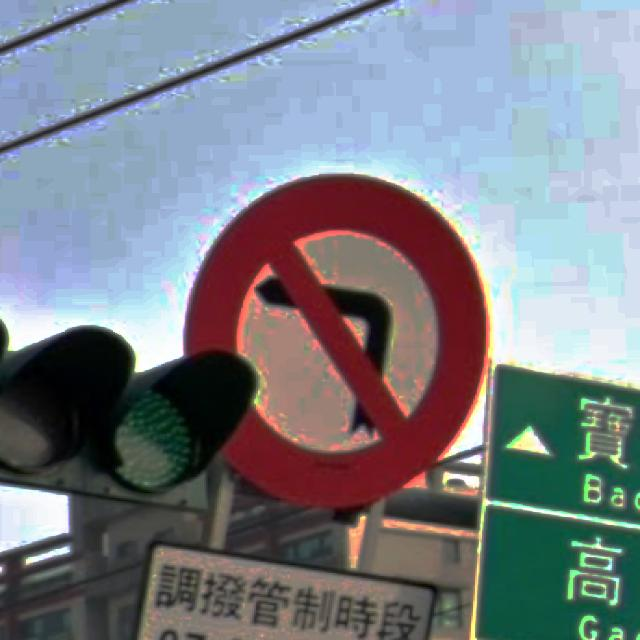noturnleft: (182, 170, 490, 510)
